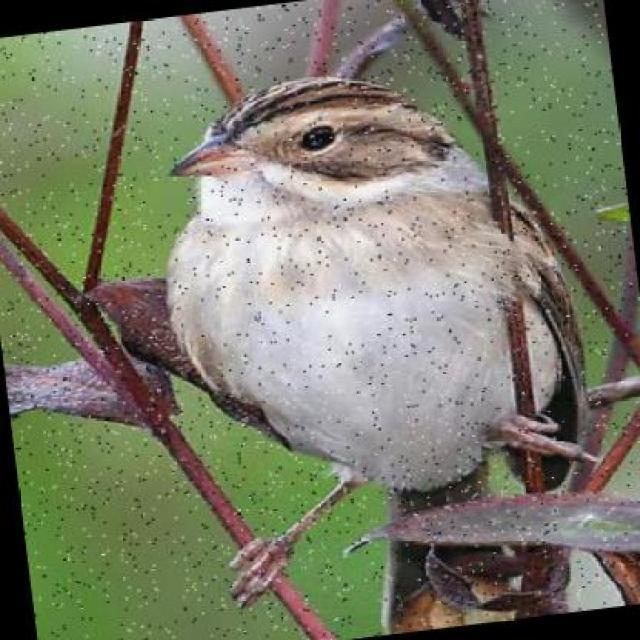Bird: (160, 67, 598, 609)
